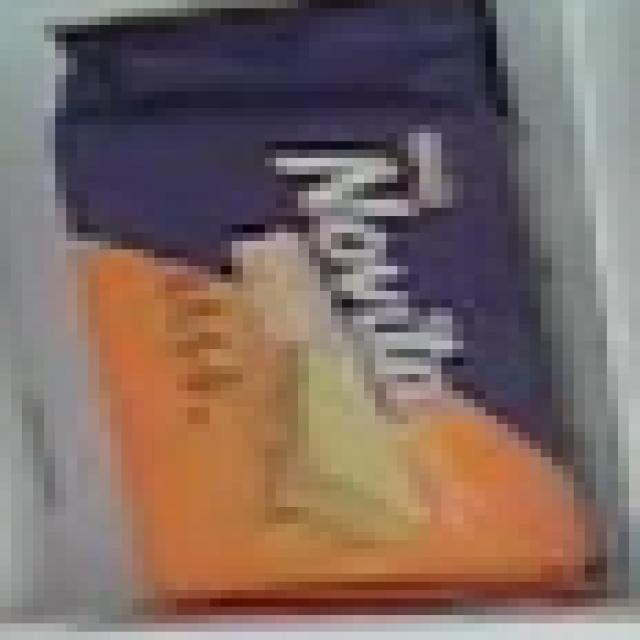Plastic: (41, 2, 626, 618)
